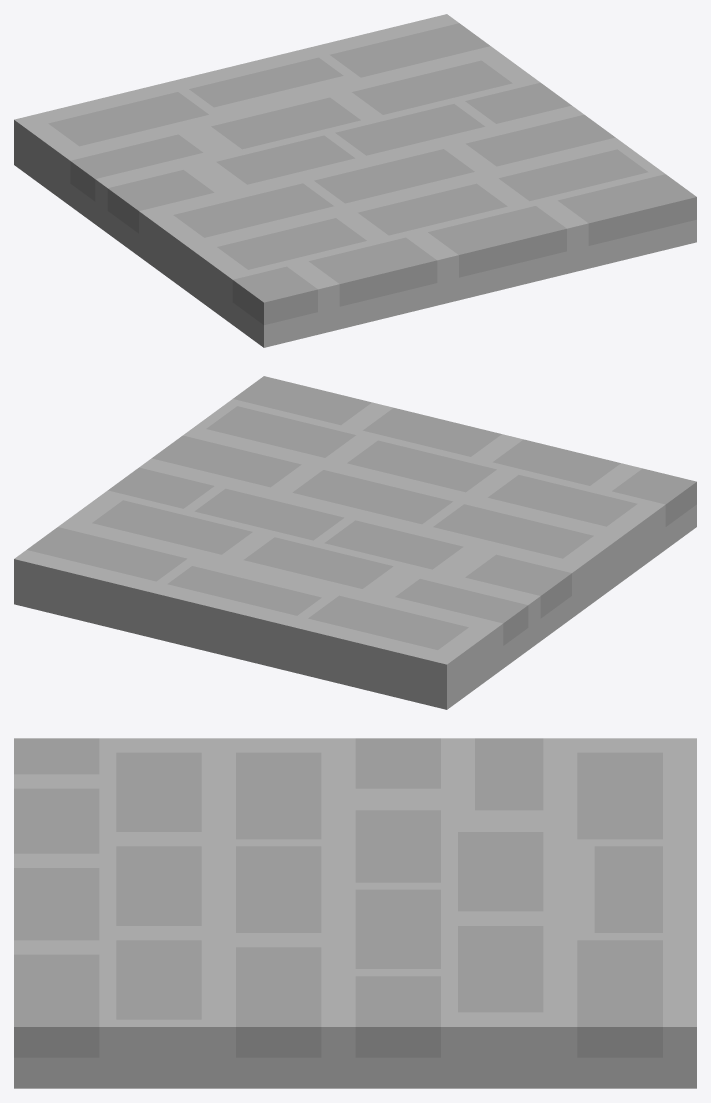
File: cobblestone_floor.glb
3 renders of one model, top to bottom at view 1: azimuth 30°, elevation 25°; view 2: azimuth 150°, elevation 25°; view 3: azimuth 270°, elevation 25°, orthographic. The views are drawn at different scales.
Visible parts, largest first — view 1: Untitled.001; view 2: Untitled.001; view 3: Untitled.001.
Boxes of the visible parts, bbox=[...] form: Untitled.001: bbox=[14, 14, 696, 347]; Untitled.001: bbox=[14, 376, 696, 709]; Untitled.001: bbox=[14, 738, 696, 1088].
Bounding box in the file's own units: 2 × 0.2 × 2.
Materials: 1 (1 with a texture image).
